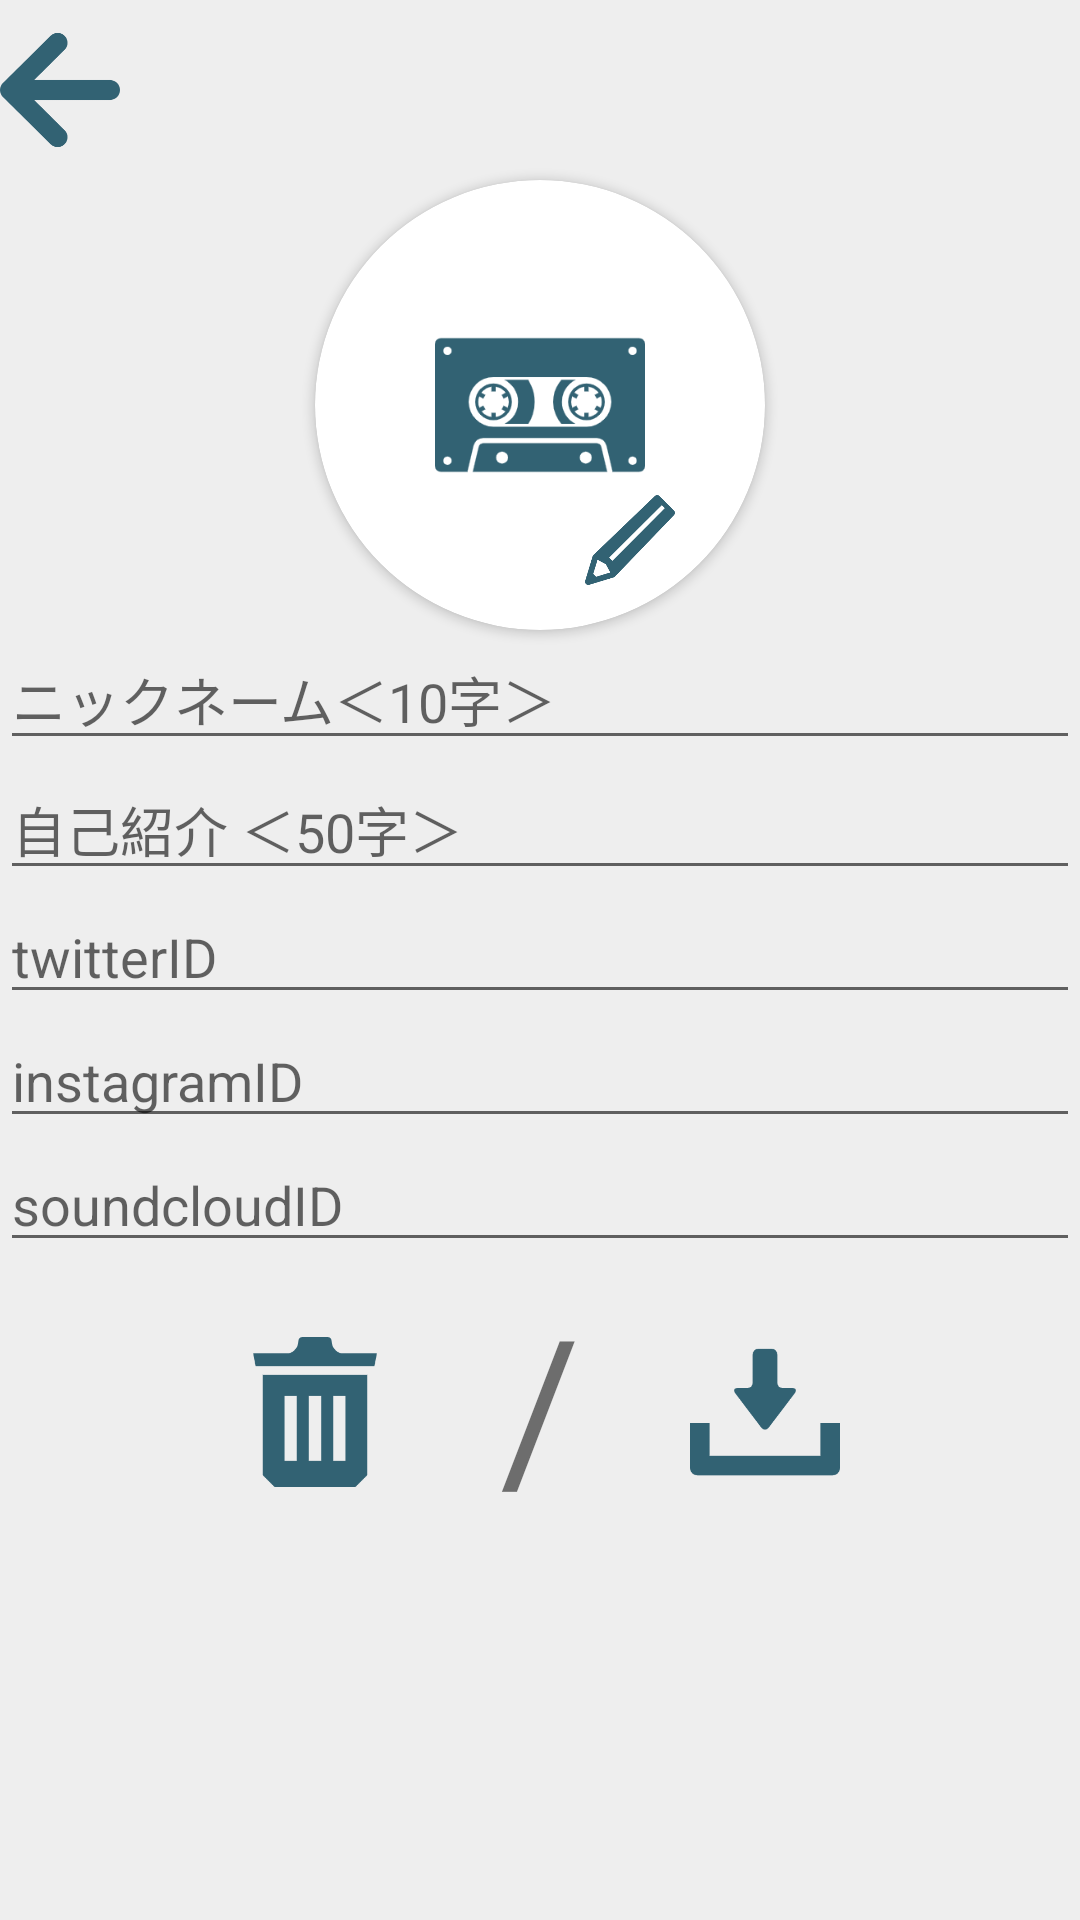

Screen size 1080px×1920px. Icon name, then its center in pixels as (x=x, y=y):
back: (x=60, y=90)
casset: (x=540, y=405)
change: (x=630, y=540)
save: (x=765, y=1412)
settingcancel: (x=315, y=1412)
